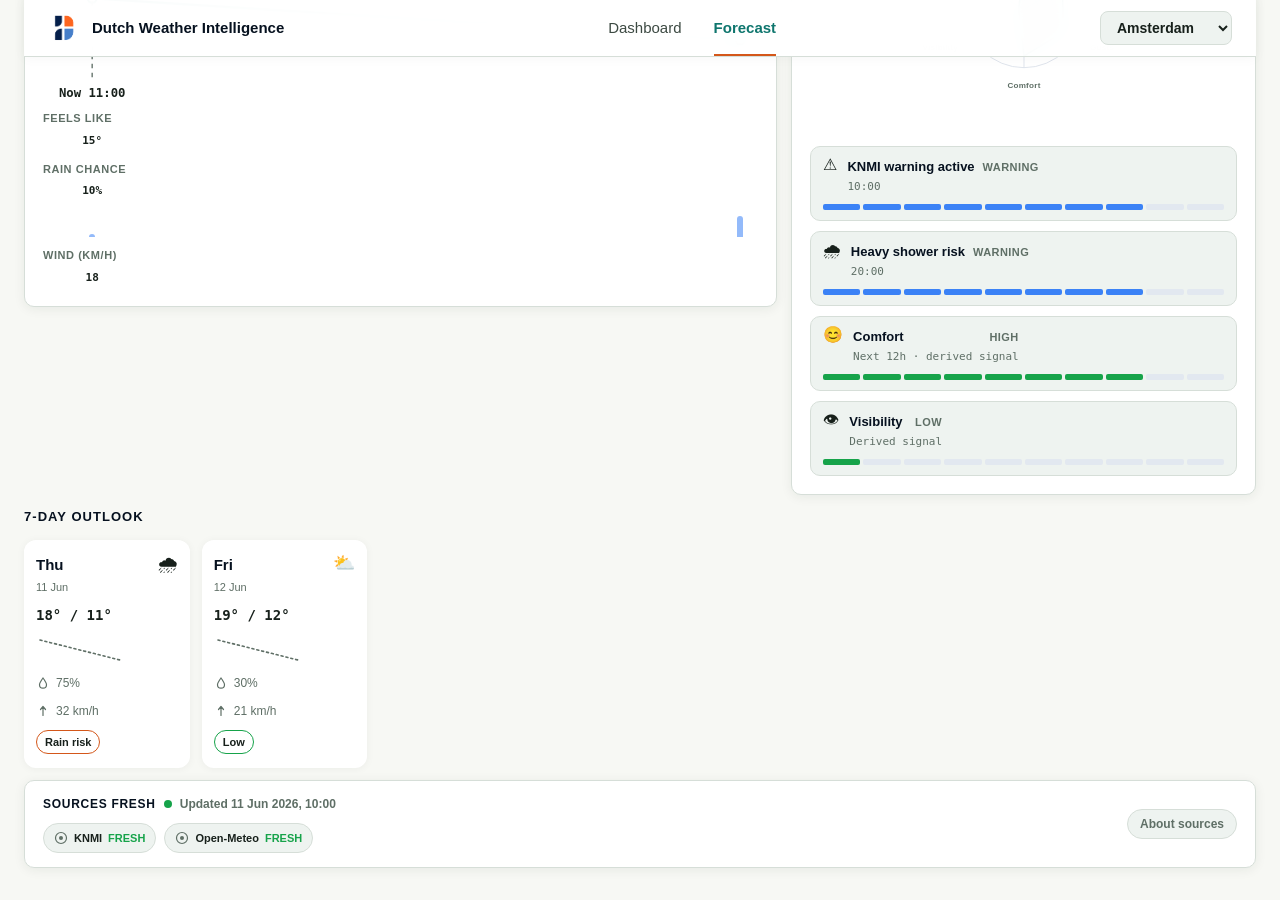
Test: ForecastShell › reveals source links when About sources is toggled
(page scrolled)
Click the button "About sources" at (1182, 824), box [1127, 809, 1237, 839]
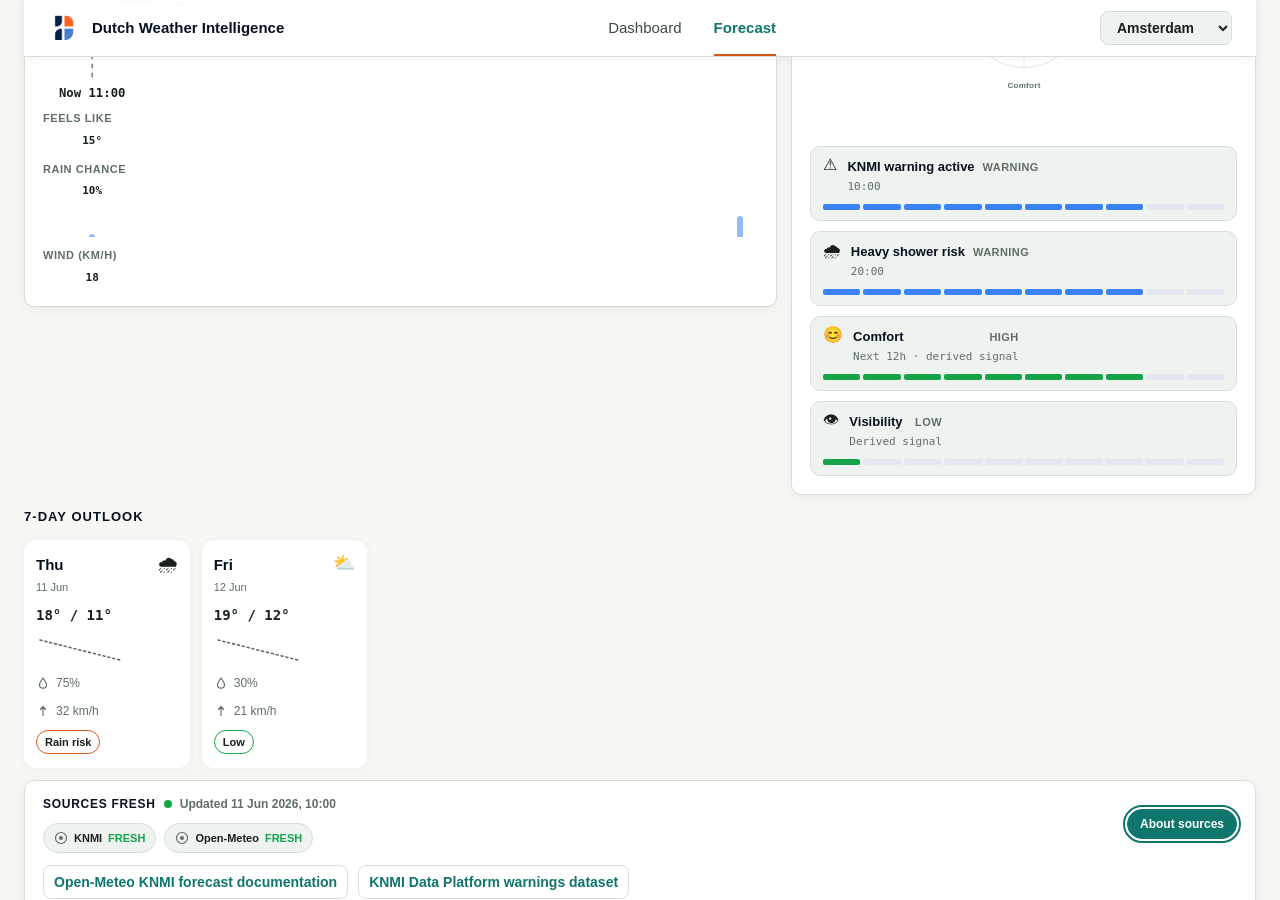
Expected: the button "About sources" is expanded, [1127, 809, 1237, 839]
